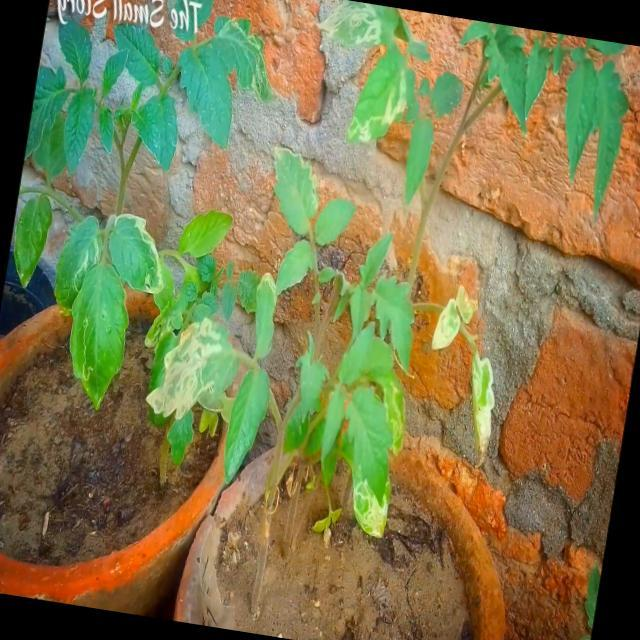Tomato healthy leaf: (574, 56, 638, 223), (165, 37, 244, 151), (331, 382, 401, 507), (472, 23, 544, 138), (550, 45, 606, 186), (219, 363, 274, 490), (362, 268, 424, 374), (104, 20, 167, 89), (57, 84, 99, 176), (398, 116, 438, 209), (177, 204, 236, 264), (335, 314, 377, 390), (274, 235, 319, 300), (317, 383, 349, 465), (312, 196, 358, 250), (356, 226, 394, 291), (162, 404, 198, 470)
Tomato target spot leaf: (56, 258, 138, 414), (143, 308, 246, 429), (202, 11, 290, 106), (346, 38, 416, 150), (48, 209, 108, 321), (102, 208, 176, 296), (262, 143, 328, 239), (456, 353, 504, 472), (311, 0, 401, 56), (363, 369, 414, 455), (342, 470, 394, 540), (246, 272, 283, 360), (430, 294, 466, 358)
